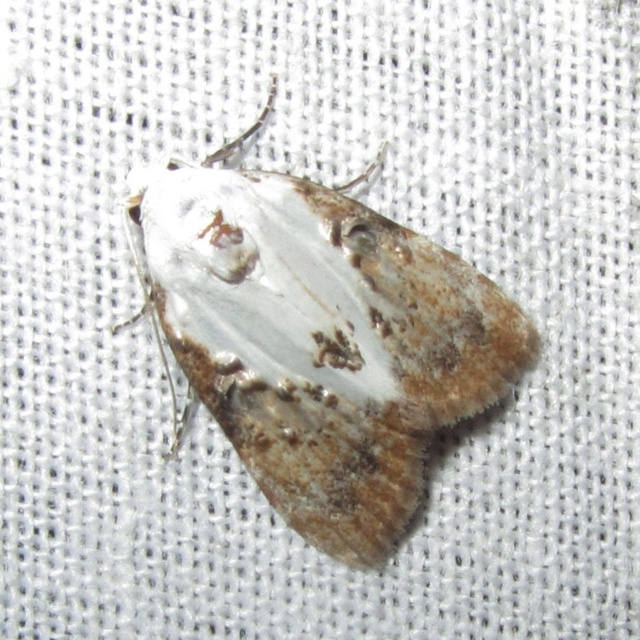Moths and butterflies: (112, 72, 542, 573)
